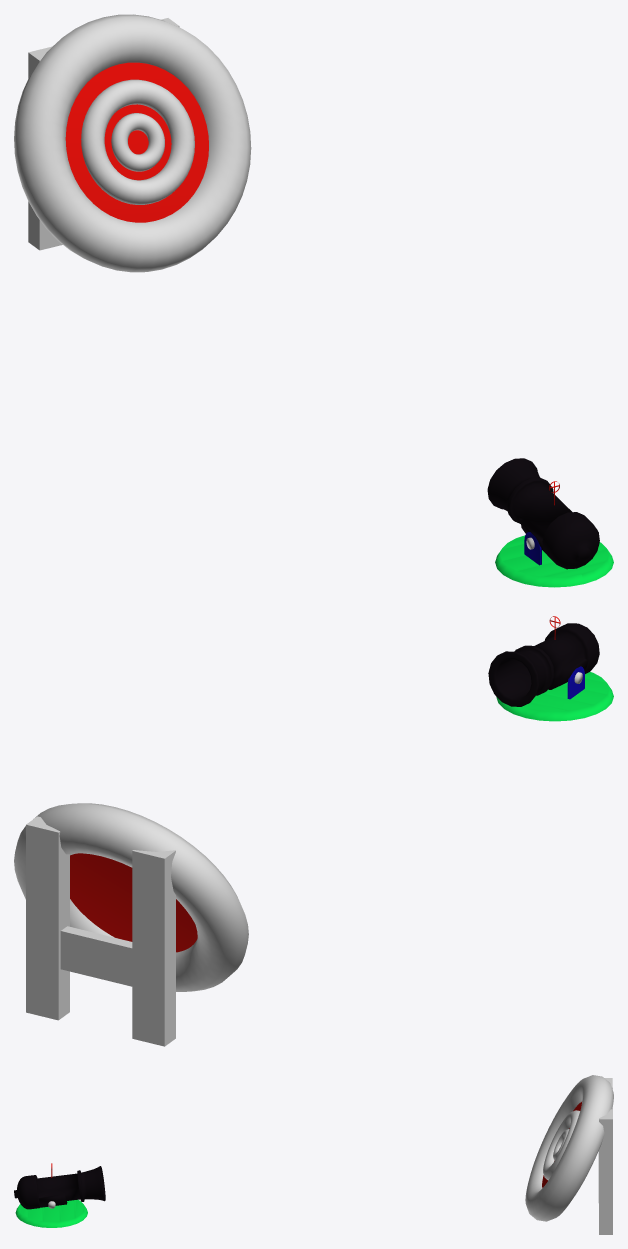
File: Canon_expt_2_16010122128 (1).glb
3 views of the same model, one above another, from view 1: azimuth 30°, elevation 25°; view 2: azimuth 150°, elevation 25°; view 3: azimuth 270°, elevation 25° (orthographic). The views are drawn at different scales.
Parts seen in each view (by area): view 1: Torus.003, Cube.001, Torus.001, Cylinder.001, Cylinder, Torus, Cube.003; view 2: Torus.003, Cube.003, Cube.002, Cylinder.001, Cube.001, Cube.004, Cylinder; view 3: Torus.003, Cylinder.001, Cube.002, Cylinder, Torus.001.
Part boxes in pixels (bbox=[...]): Torus.003: bbox=[14, 14, 251, 272]; Cube.001: bbox=[65, 62, 208, 222]; Torus.001: bbox=[81, 79, 194, 204]; Cylinder.001: bbox=[487, 458, 599, 569]; Cylinder: bbox=[495, 535, 613, 587]; Torus: bbox=[111, 113, 164, 171]; Cube.003: bbox=[28, 46, 62, 250]; Torus.003: bbox=[14, 803, 248, 991]; Cube.003: bbox=[132, 850, 175, 1046]; Cube.002: bbox=[26, 816, 69, 1020]; Cylinder.001: bbox=[488, 623, 599, 706]; Cube.001: bbox=[70, 853, 197, 952]; Cube.004: bbox=[60, 926, 132, 986]; Cylinder: bbox=[496, 672, 613, 721]; Torus.003: bbox=[525, 1075, 613, 1221]; Cylinder.001: bbox=[14, 1166, 105, 1209]; Cube.002: bbox=[599, 1109, 612, 1234]; Cylinder: bbox=[15, 1199, 87, 1227]; Torus.001: bbox=[543, 1110, 579, 1180].
Bounding box in the file's own units: 4.36 × 3.99 × 16.56.
